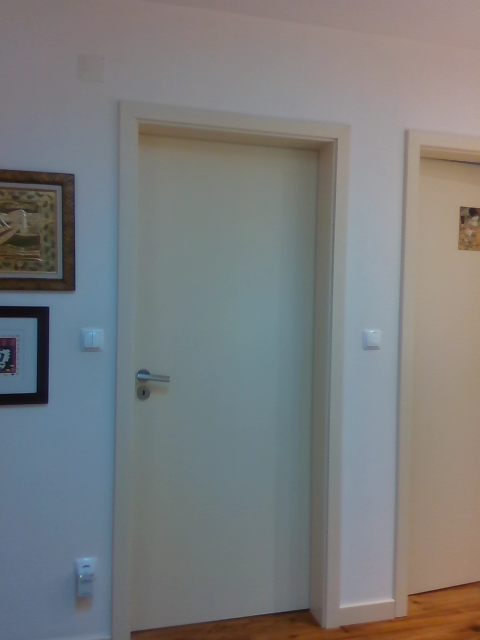closed: (119, 94, 354, 637)
